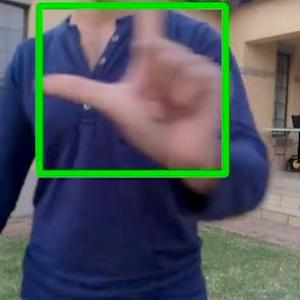land_hand: (33, 0, 235, 168)
